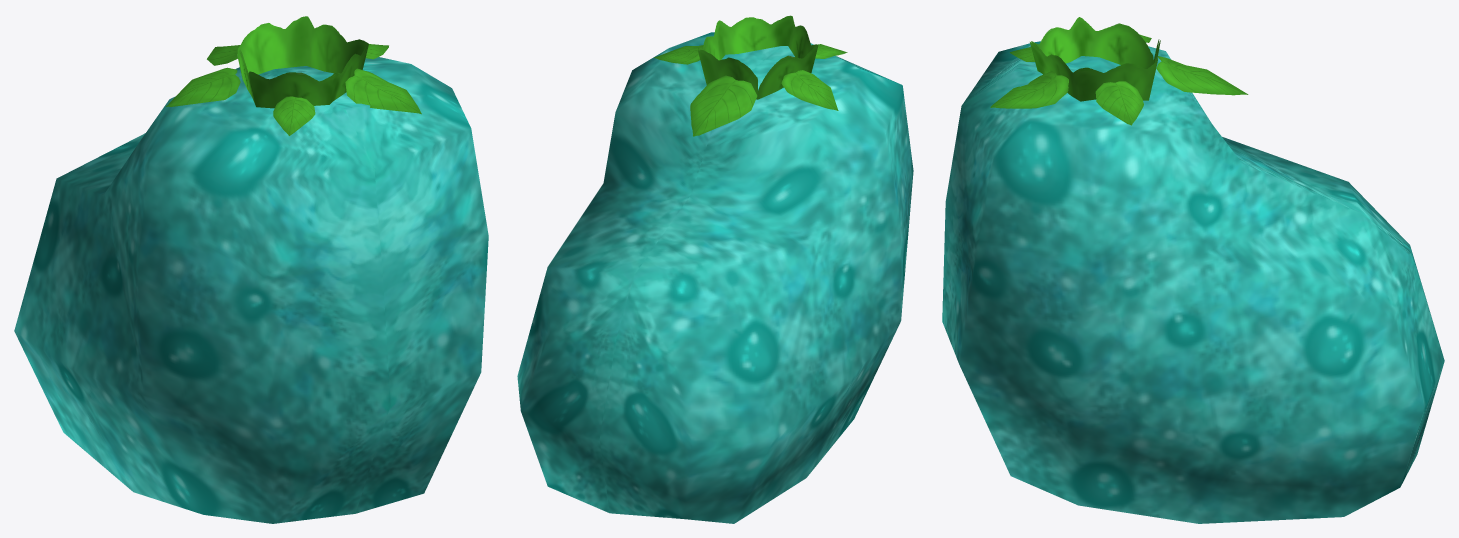
Rendered from kasvupapu_kuihtunut_taimi.FBX.
The picture shows the model from 3 angles, left to right: view 1: azimuth 30°, elevation 25°; view 2: azimuth 150°, elevation 25°; view 3: azimuth 270°, elevation 25°; orthographic projection. The views are drawn at different scales.
Visible parts, largest first — view 1: munakoiso, kruunu, lehti002, lehti, lehti001; view 2: munakoiso, kruunu, lehti004, lehti, lehti003; view 3: munakoiso, kruunu, lehti004, lehti002, lehti003.
Part boxes in pixels (x1,y1,x2,y2): munakoiso: (14, 57, 488, 523); kruunu: (237, 16, 368, 108); lehti002: (345, 68, 421, 114); lehti: (166, 67, 240, 106); lehti001: (273, 96, 315, 135); munakoiso: (517, 32, 913, 523); kruunu: (698, 15, 818, 99); lehti004: (690, 75, 757, 136); lehti: (781, 70, 838, 110); lehti003: (654, 45, 703, 64); munakoiso: (942, 41, 1444, 523); kruunu: (1030, 17, 1160, 101); lehti004: (1156, 56, 1248, 95); lehti002: (990, 71, 1068, 108); lehti003: (1095, 81, 1143, 125).
Bounding box in the file's own units: 27.1 × 36.11 × 37.11.
1 material, 1 textured.
